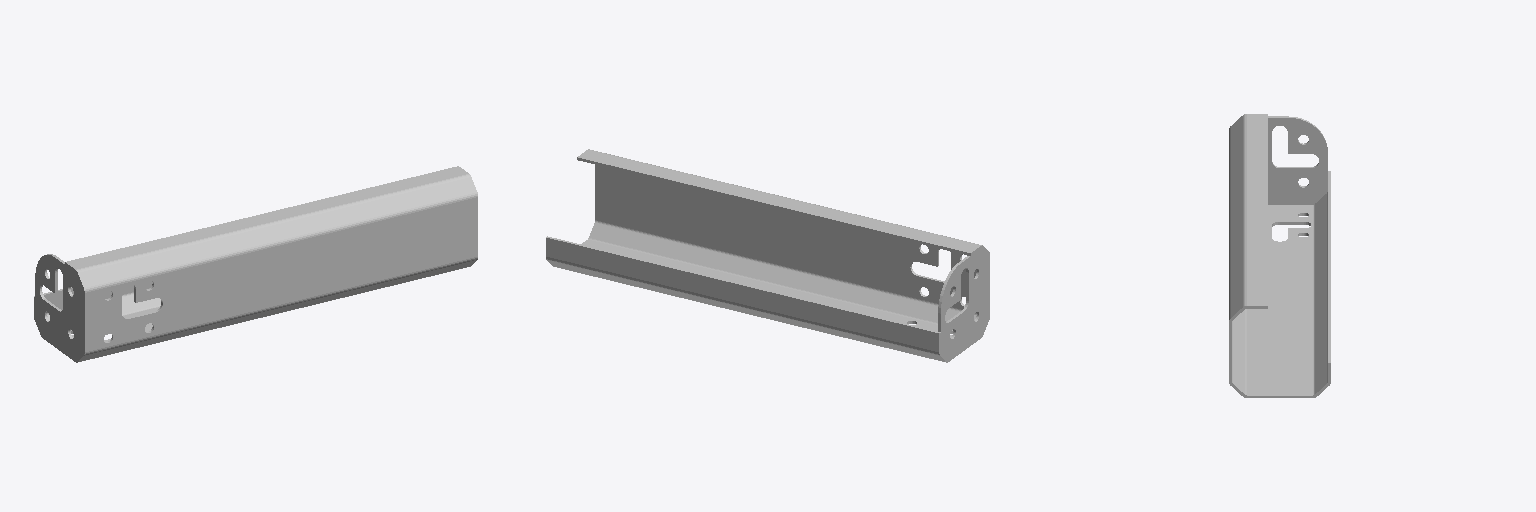
The model's file is B20 (Connector Single) v1 (Stainless Steel).obj.
3 renders of one model, left to right at view 1: azimuth 30°, elevation 25°; view 2: azimuth 150°, elevation 25°; view 3: azimuth 270°, elevation 25°, orthographic.
Parts seen in each view (by area): view 1: Body5, Body7; view 2: Body5, Body7; view 3: Body5, Body7.
Part boxes in pixels (x1,y1,x2,y2): Body5: (34, 166, 477, 362); Body7: (35, 254, 82, 359); Body5: (546, 149, 989, 362); Body7: (938, 248, 988, 359); Body5: (1229, 114, 1330, 397); Body7: (1268, 116, 1327, 204).
Bounding box in the file's own units: 578 × 130 × 130.